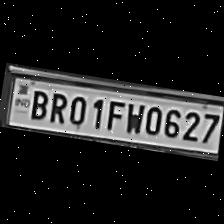0: (64, 92, 90, 128), (141, 103, 164, 136)
1: (84, 95, 106, 131)
2: (178, 107, 202, 144)
6: (160, 104, 183, 139)
7: (197, 109, 219, 145)
B: (26, 86, 50, 122)
F: (102, 96, 126, 134)
R: (45, 89, 69, 126)
W: (120, 98, 144, 136)
